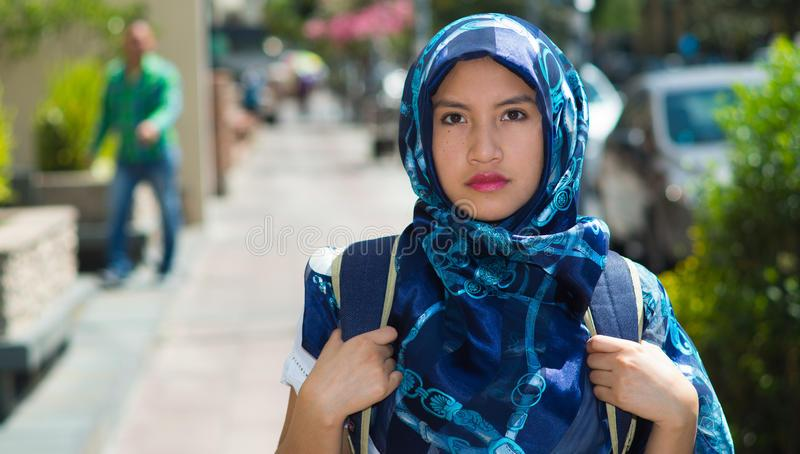No Mask: (397, 48, 604, 307), (116, 21, 167, 86)
